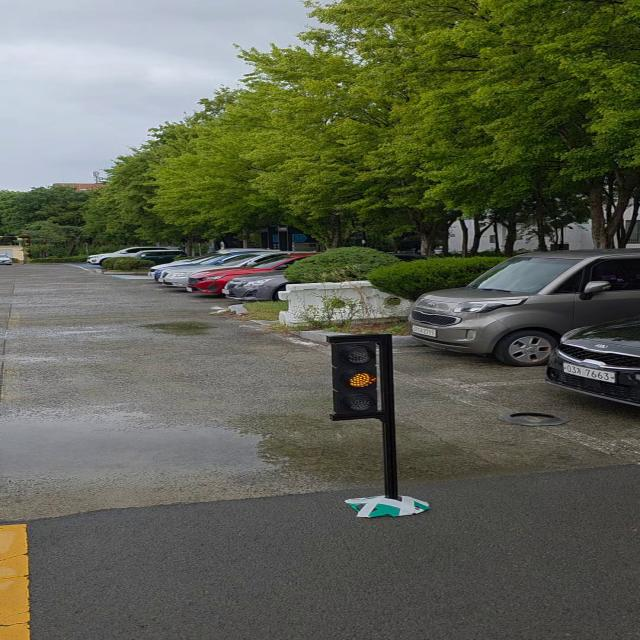yellow: (332, 337, 391, 425)
